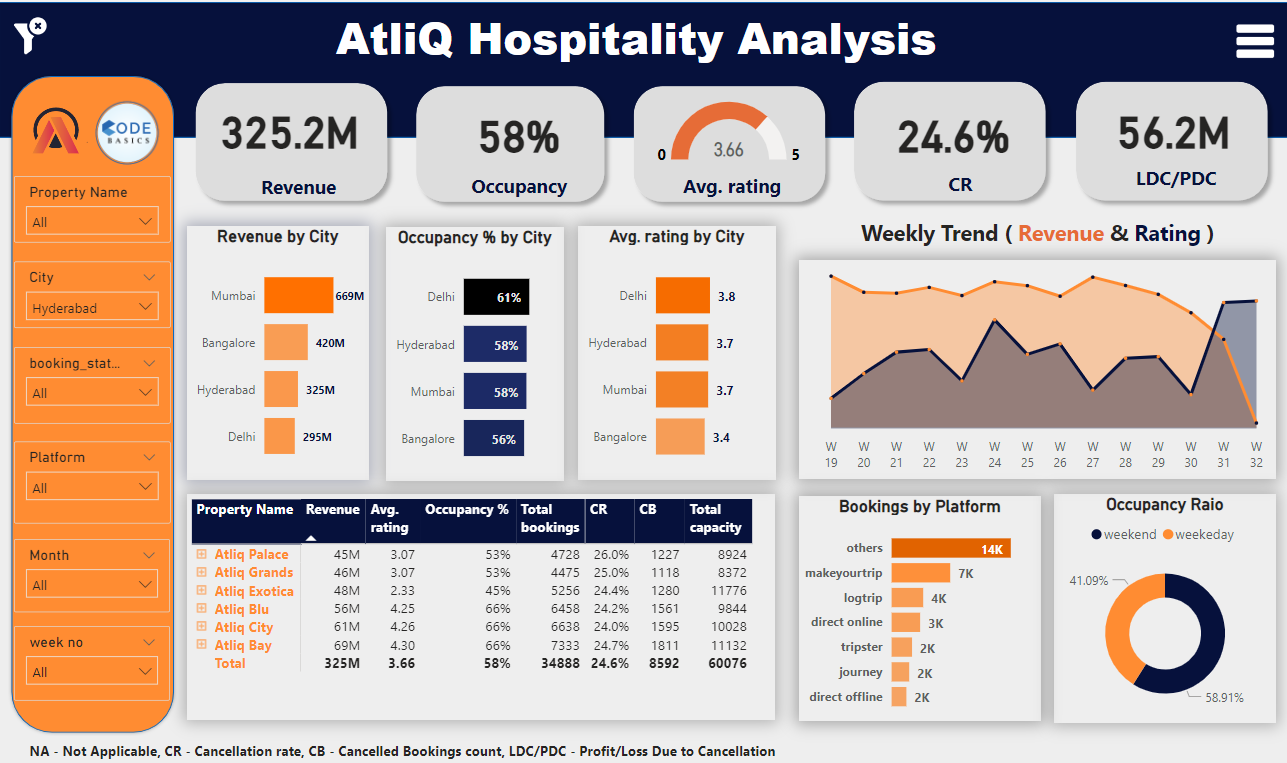

This screenshot's page, from the dashboard's own definition file:
{"tool":"powerbi","page":{"name":"Overall","canvas":[1280,760],"ordinal":0},"visuals":[{"type":"shape","box":[0,0,1280,134.4],"z":0},{"type":"textbox","box":[0,0,1278.1,75.7],"z":0,"group":"g1"},{"type":"group","id":"g1","title":"visuals","box":[0,0,1278.1,727],"z":1000},{"type":"shape","box":[1058.5,70.1,208.3,136.3],"z":1000,"group":"g1"},{"type":"shape","box":[839.3,70.1,208.3,136.3],"z":2000,"group":"g1"},{"type":"textbox","box":[443.5,163.2,145.1,44.5],"z":2000},{"type":"shape","box":[620.1,73.8,208.3,132.5],"z":3000,"group":"g1"},{"type":"textbox","box":[880.3,161.6,145.1,44.5],"z":3000},{"type":"shape","box":[404.7,73.8,204.5,132.5],"z":4000,"group":"g1"},{"type":"textbox","box":[1094.7,156.6,145.1,44.5],"z":4000},{"type":"textbox","box":[224.2,164.9,145.1,39.6],"z":5000},{"type":"clusteredBarChart","title":"Revenue by City","fields":{"Category":["dim_hotels.city"],"Y":["resource_measures.revenue"]},"box":[185.9,222.1,181,251.7],"z":5000,"group":"g1"},{"type":"card","fields":{"Values":["resource_measures.Occupancy %"]},"box":[454.4,96.6,119.3,64.4],"z":6000,"group":"g1"},{"type":"textbox","box":[654.5,163.2,145.1,44.5],"z":6000},{"type":"textbox","box":[802.3,207.8,456.5,48.5],"z":6500},{"type":"textbox","box":[24.7,727,1063.3,33],"z":6750},{"type":"clusteredBarChart","title":"Occupancy % by City","fields":{"Category":["dim_hotels.city"],"Y":["resource_measures.Occupancy %"]},"box":[384.1,222.6,176.4,252.2],"z":7000,"group":"g1"},{"type":"gauge","fields":{"MaxValue":["resource_measures.max.rating"],"MinValue":["resource_measures.min.rating"],"Y":["resource_measures.avg.rating mod"]},"box":[643,87.4,161.6,84.1],"z":8000,"group":"g1"},{"type":"clusteredBarChart","title":"Avg. rating by City","fields":{"Category":["dim_hotels.city"],"Y":["resource_measures.Avg. rating"]},"box":[573.7,220.9,196.2,252.2],"z":9000,"group":"g1"},{"type":"image","box":[7.6,4.5,47,57.6],"z":10000},{"type":"donutChart","title":"Occupancy Raio","fields":{"Category":["dim_date.day_type"],"Y":["resource_measures.Occupancy %"]},"box":[1045.2,488,220.9,227.5],"z":10000,"group":"g1"},{"type":"areaChart","title":"Weekly Trend (Revenue & Rating)","fields":{"Category":["dim_date.week no"],"Y2":["resource_measures.Avg. rating"],"Y":["resource_measures.revenue"]},"box":[793.2,256.3,473.2,216.9],"z":11000,"group":"g1"},{"type":"clusteredBarChart","title":"Bookings by Platform","fields":{"Category":["fact_bookings.booking_platform"],"Y":["resource_measures.Total bookings"]},"box":[793,489.6,240.7,224.2],"z":12000,"group":"g1"},{"type":"pivotTable","fields":{"Rows":["dim_hotels.property_name","dim_hotels.city"],"Values":["resource_measures.revenue","resource_measures.Avg. rating","resource_measures.Occupancy %","resource_measures.Total bookings","resource_measures.CR","resource_measures.Total cancelled bookings","resource_measures.Total capacity"]},"box":[186.3,488,583.6,224.2],"z":13000,"group":"g1"},{"type":"shape","box":[8.2,69.2,168.2,657.8],"z":14000,"group":"g1"},{"type":"slicer","fields":{"Values":["dim_date.week no"]},"box":[14.8,618.2,155,74.2],"z":15000,"group":"g1"},{"type":"slicer","fields":{"Values":["dim_date.mmm yy.Variation.Date Hierarchy.Month"]},"box":[14.8,532.5,155,72.5],"z":16000,"group":"g1"},{"type":"slicer","fields":{"Values":["fact_bookings.booking_platform"]},"box":[15.1,435.8,155.3,81.4],"z":17000,"group":"g1"},{"type":"slicer","fields":{"Values":["fact_bookings.booking_status"]},"box":[15.1,341.5,155.3,75.7],"z":18000,"group":"g1"},{"type":"slicer","fields":{"Values":["dim_hotels.city"]},"box":[15.1,256.7,155.3,66.3],"z":19000,"group":"g1"},{"type":"slicer","fields":{"Values":["dim_hotels.property_name"]},"box":[15.1,171.9,155.3,66.3],"z":20000,"group":"g1"},{"type":"card","fields":{"Values":["resource_measures.LDC"]},"box":[1088.6,87.4,150,74.2],"z":21000,"group":"g1"},{"type":"card","fields":{"Values":["resource_measures.CR"]},"box":[869.1,77.6,155.3,102.2],"z":22000,"group":"g1"},{"type":"shape","box":[185.6,72,208.3,134.4],"z":23000,"group":"g1"},{"type":"card","fields":{"Values":["resource_measures.revenue"]},"box":[206.7,87.4,163.2,74.2],"z":24000,"group":"g1"},{"type":"image","title":"atliq","box":[15.1,90.4,77.6,73.8],"z":25000,"group":"g1"},{"type":"image","title":"codebasics","box":[85.2,90.4,85.2,77.6],"z":26000,"group":"g1"},{"type":"image","title":"three dot menu","box":[1213.7,15.1,64.4,47.3],"z":27000,"group":"g1"}]}

Visuals, with their boxes in screenshot pixels (x1, y1, x2, y2), scaled from the page's 1280x760 canvas onto the 1287x763 screenshot:
shape: [0, 0, 1286, 135]
textbox: [0, 0, 1285, 76]
"visuals" group: [0, 0, 1285, 730]
shape: [1064, 70, 1274, 207]
shape: [844, 70, 1053, 207]
textbox: [446, 164, 592, 209]
shape: [623, 74, 833, 207]
textbox: [885, 162, 1031, 207]
shape: [407, 74, 613, 207]
textbox: [1101, 157, 1247, 202]
textbox: [225, 166, 371, 205]
"Revenue by City" clusteredBarChart: [187, 223, 369, 476]
card - resource_measures.Occupancy %: [457, 97, 577, 162]
textbox: [658, 164, 804, 209]
textbox: [807, 209, 1266, 257]
textbox: [25, 730, 1094, 762]
"Occupancy % by City" clusteredBarChart: [386, 223, 564, 477]
gauge - resource_measures.max.rating x resource_measures.min.rating: [647, 88, 809, 172]
"Avg. rating by City" clusteredBarChart: [577, 222, 774, 475]
image: [8, 5, 55, 62]
"Occupancy Raio" donutChart: [1051, 490, 1273, 718]
"Weekly Trend (Revenue & Rating)" areaChart: [798, 257, 1273, 475]
"Bookings by Platform" clusteredBarChart: [797, 492, 1039, 717]
pivotTable - dim_hotels.property_name x dim_hotels.city: [187, 490, 774, 715]
shape: [8, 69, 177, 730]
slicer - dim_date.week no: [15, 621, 171, 695]
slicer - dim_date.mmm yy.Variation.Date Hierarchy.Month: [15, 535, 171, 607]
slicer - fact_bookings.booking_platform: [15, 438, 171, 519]
slicer - fact_bookings.booking_status: [15, 343, 171, 419]
slicer - dim_hotels.city: [15, 258, 171, 324]
slicer - dim_hotels.property_name: [15, 173, 171, 239]
card - resource_measures.LDC: [1095, 88, 1245, 162]
card - resource_measures.CR: [874, 78, 1030, 181]
shape: [187, 72, 396, 207]
card - resource_measures.revenue: [208, 88, 372, 162]
"atliq" image: [15, 91, 93, 165]
"codebasics" image: [86, 91, 171, 169]
"three dot menu" image: [1220, 15, 1285, 63]
